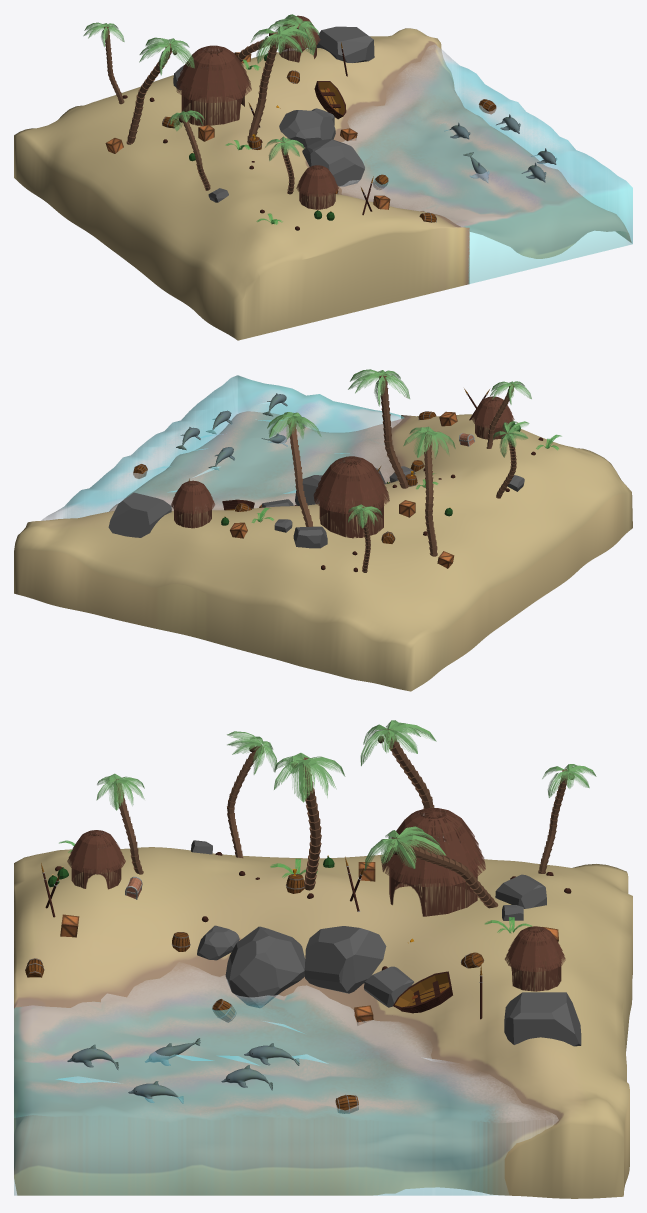
The model's file is animal.glb.
3 views of the same model, one above another, from view 1: azimuth 30°, elevation 25°; view 2: azimuth 150°, elevation 25°; view 3: azimuth 270°, elevation 25° (orthographic). The views are drawn at different scales.
Visible parts, largest first — view 1: spiaggia, mare, Cylinder.004, sass05, sasso3, sasso4, Cylinder.002, Cylinder.003, palma 2.002, palma 2.003, Cube.001_legno_0, palma 2.006; view 2: spiaggia, mare, Cylinder.004, sasso3, Cylinder.003, Cylinder.002, palma 2.003, palma 2.002, palma 2.004, sasso 2, sasso4; view 3: spiaggia, mare, Cylinder.004, sass05, sasso4, sasso3, Cylinder.003, Cylinder.002, Cube.001_legno_0, palma 2.002, sasso 2, sasso 2.001 (+7 smaller).
Part boxes in pixels (bbox=[...]): spiaggia: bbox=[14, 28, 631, 340]; mare: bbox=[339, 44, 632, 283]; Cylinder.004: bbox=[176, 45, 251, 125]; sass05: bbox=[302, 139, 364, 186]; sasso3: bbox=[317, 26, 374, 62]; sasso4: bbox=[279, 110, 335, 147]; Cylinder.002: bbox=[296, 165, 338, 209]; Cylinder.003: bbox=[279, 15, 320, 62]; palma 2.002: bbox=[247, 32, 278, 143]; palma 2.003: bbox=[126, 43, 172, 144]; Cube.001_legno_0: bbox=[314, 81, 346, 119]; palma 2.006: bbox=[180, 114, 210, 190]; spiaggia: bbox=[14, 411, 632, 691]; mare: bbox=[41, 375, 404, 520]; Cylinder.004: bbox=[313, 456, 389, 538]; sasso3: bbox=[108, 492, 171, 537]; Cylinder.003: bbox=[171, 480, 214, 528]; Cylinder.002: bbox=[471, 396, 514, 439]; palma 2.003: bbox=[424, 431, 437, 556]; palma 2.002: bbox=[379, 374, 408, 488]; palma 2.004: bbox=[288, 418, 312, 526]; sasso 2: bbox=[293, 526, 327, 548]; sasso4: bbox=[295, 475, 322, 505]; spiaggia: bbox=[14, 847, 632, 1198]; mare: bbox=[14, 965, 558, 1195]; Cylinder.004: bbox=[381, 808, 485, 916]; sass05: bbox=[225, 926, 305, 1007]; sasso4: bbox=[304, 926, 386, 993]; sasso3: bbox=[504, 992, 581, 1046]; Cylinder.003: bbox=[504, 926, 565, 991]; Cylinder.002: bbox=[67, 830, 125, 889]; Cube.001_legno_0: bbox=[393, 971, 452, 1013]; palma 2.002: bbox=[302, 757, 321, 890]; sasso 2: bbox=[495, 874, 546, 908]; sasso 2.001: bbox=[364, 966, 413, 1007].
Size of the model in its own units: 2060 by 961 by 1976.
Materials: 13 (11 with a texture image).
